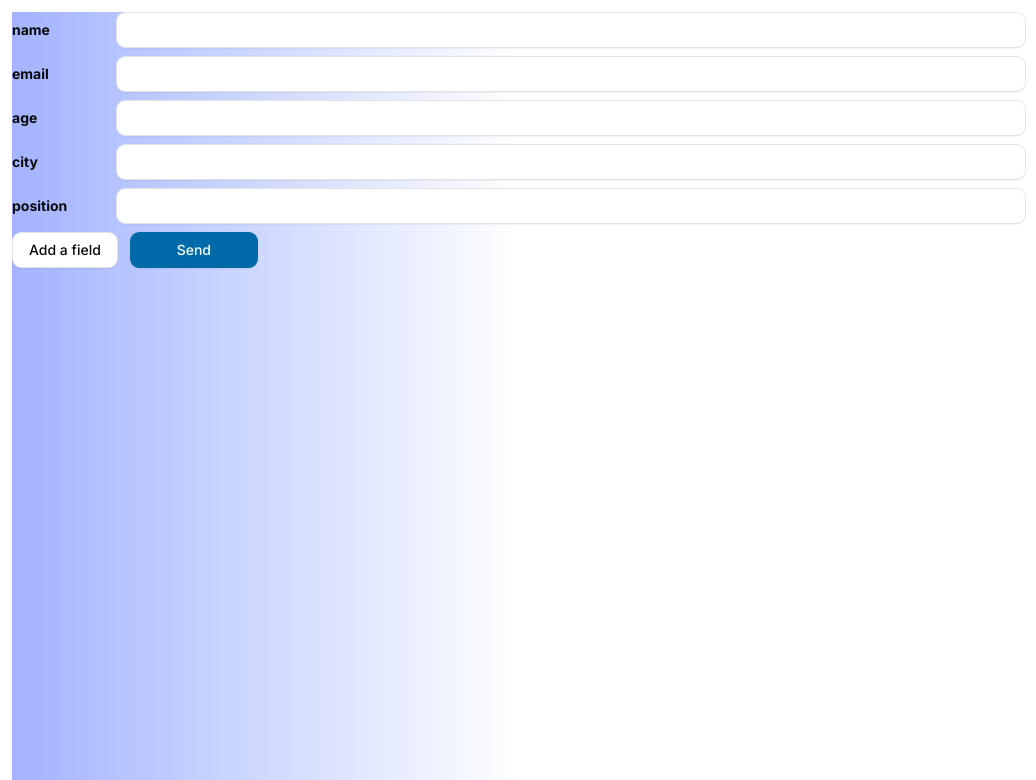
Scenario: Form component › показывает ошибки при пустых полях
Click the button "Send" at (194, 250), box [130,232,258,268]
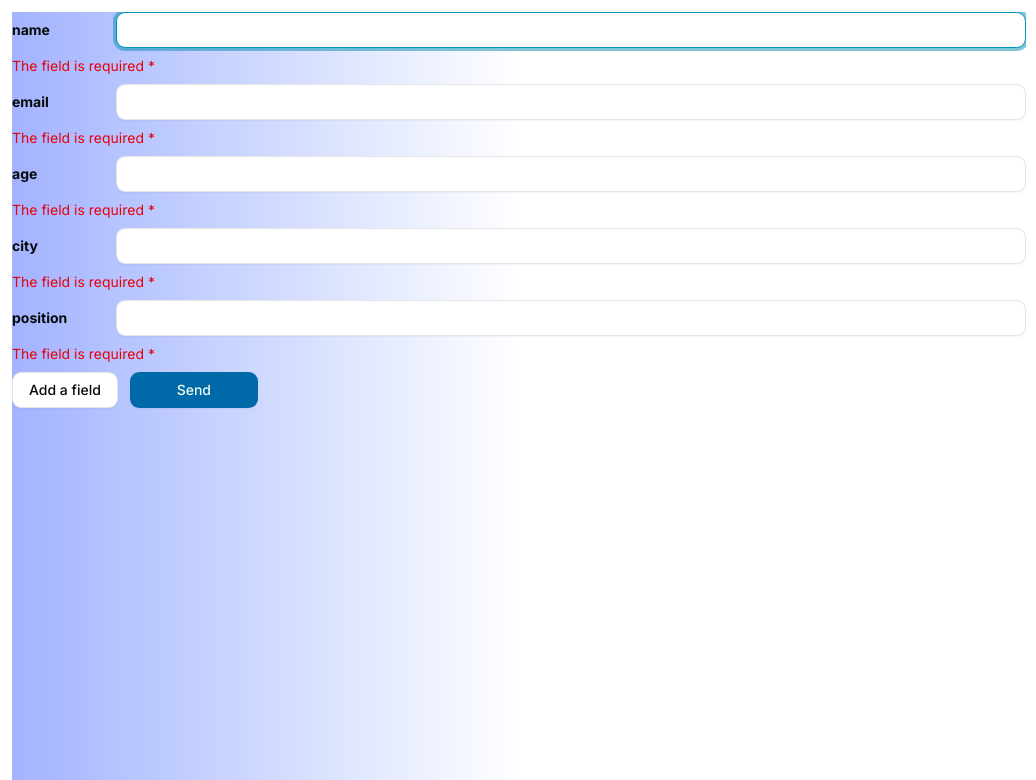
Now the text "The field is required *" below "name" is shown, box [12,57,144,74]
